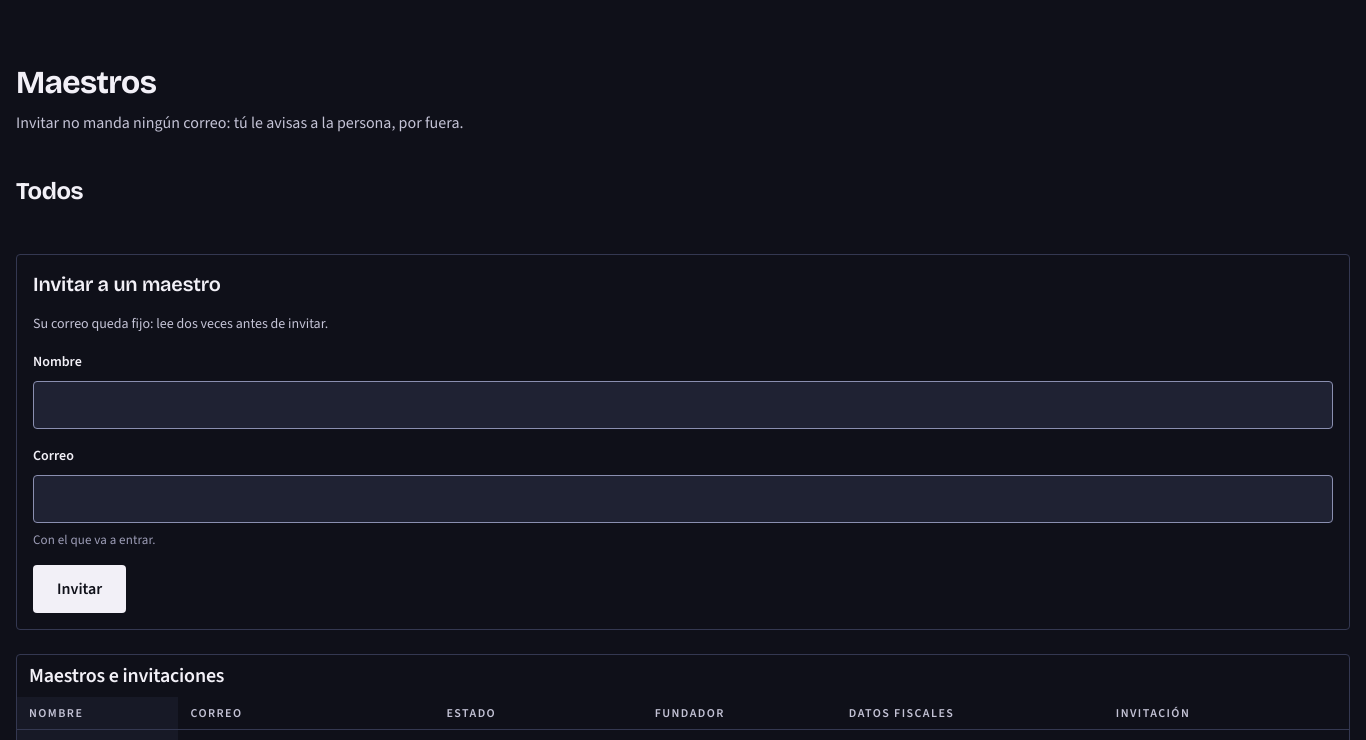
Scenario: PA-65 › lo que falló en una fila no borra lo que se escribía para invitar
Step 1. Type "Nora" into the field labelled "Nombre" → (683, 405), box [33,381,1333,429]
(page scrolled)
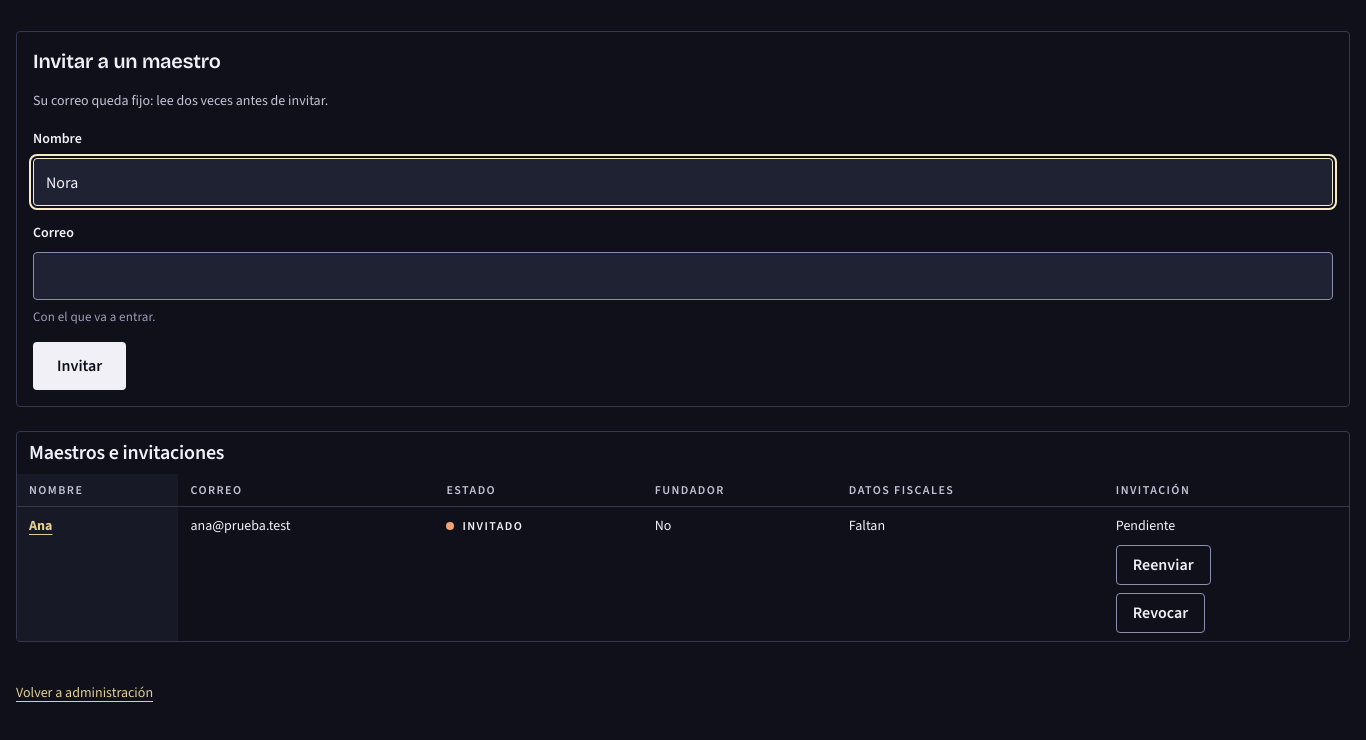
Step 2. Click the button "Revocar" → (1161, 613), box [1116,593,1205,633]
(page scrolled)
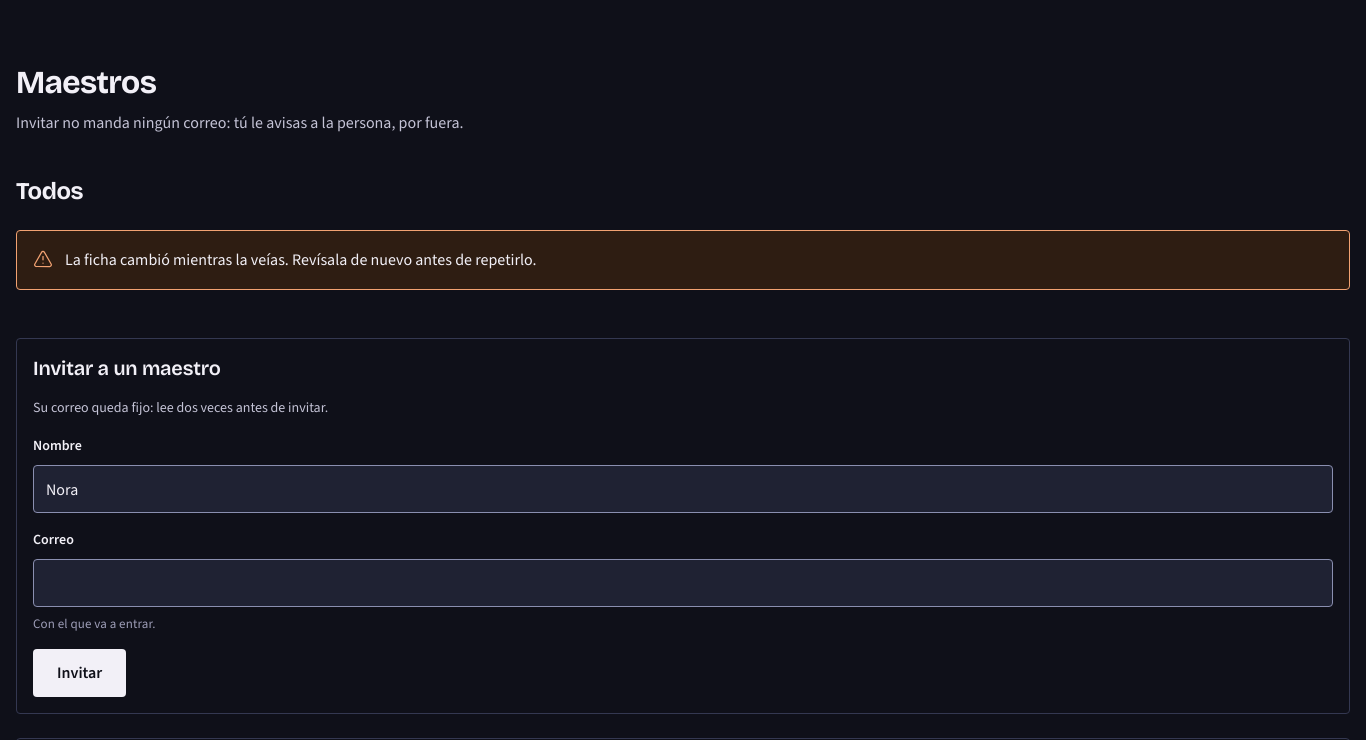
Check: the text "La ficha cambió mientras la veías. Revísala de nuevo antes de repetirlo." is shown, box [65,247,537,273]
